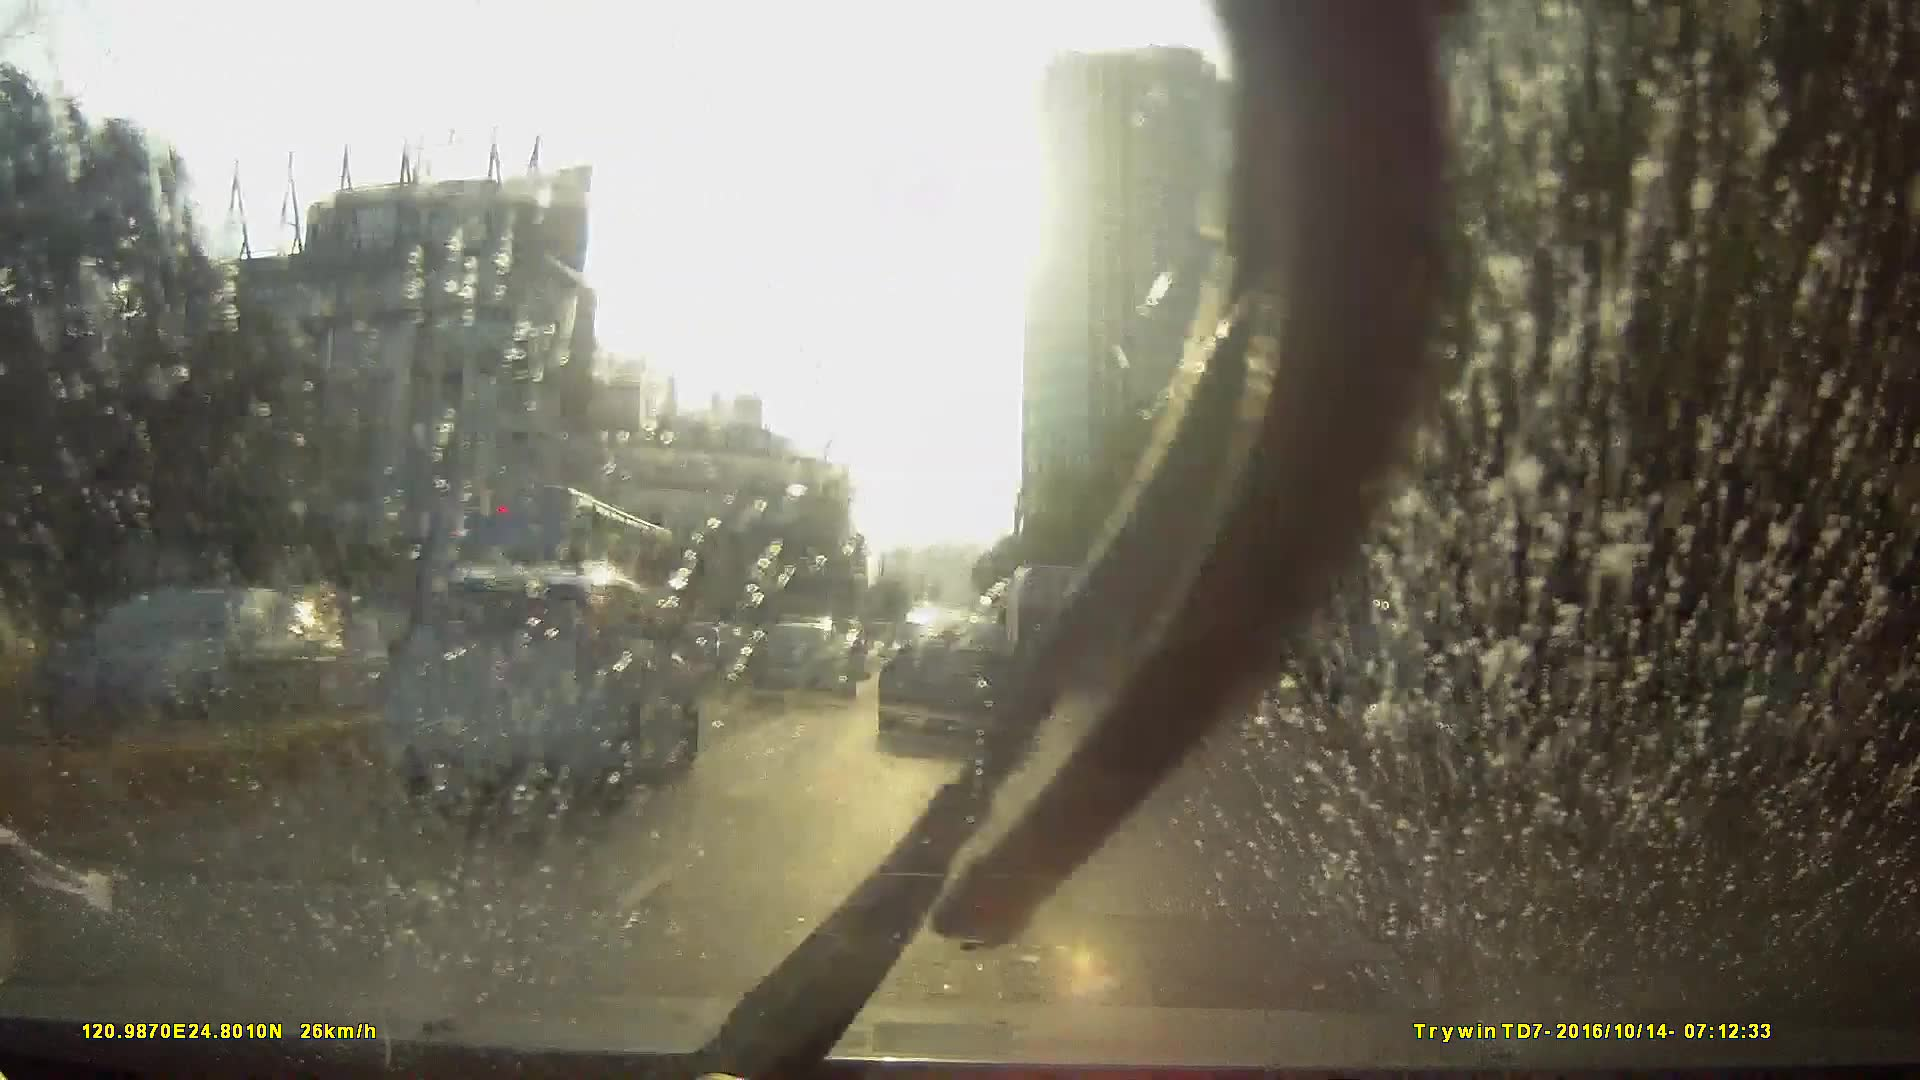vehicle: (251, 556, 684, 868), (392, 553, 702, 793), (392, 476, 712, 696), (878, 603, 1021, 753), (1000, 560, 1105, 686), (740, 616, 849, 702), (866, 638, 915, 687)
